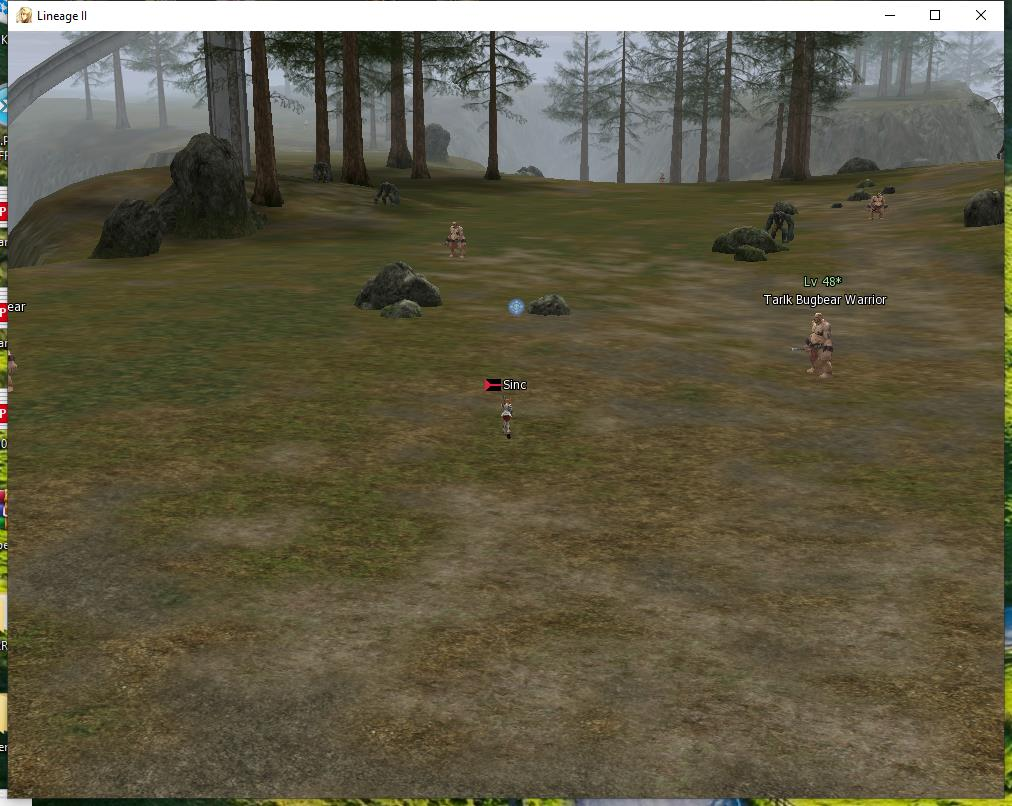monster: (759, 266, 890, 380), (763, 200, 802, 254), (435, 214, 475, 263), (371, 177, 406, 210), (865, 188, 897, 223), (308, 154, 330, 183)
